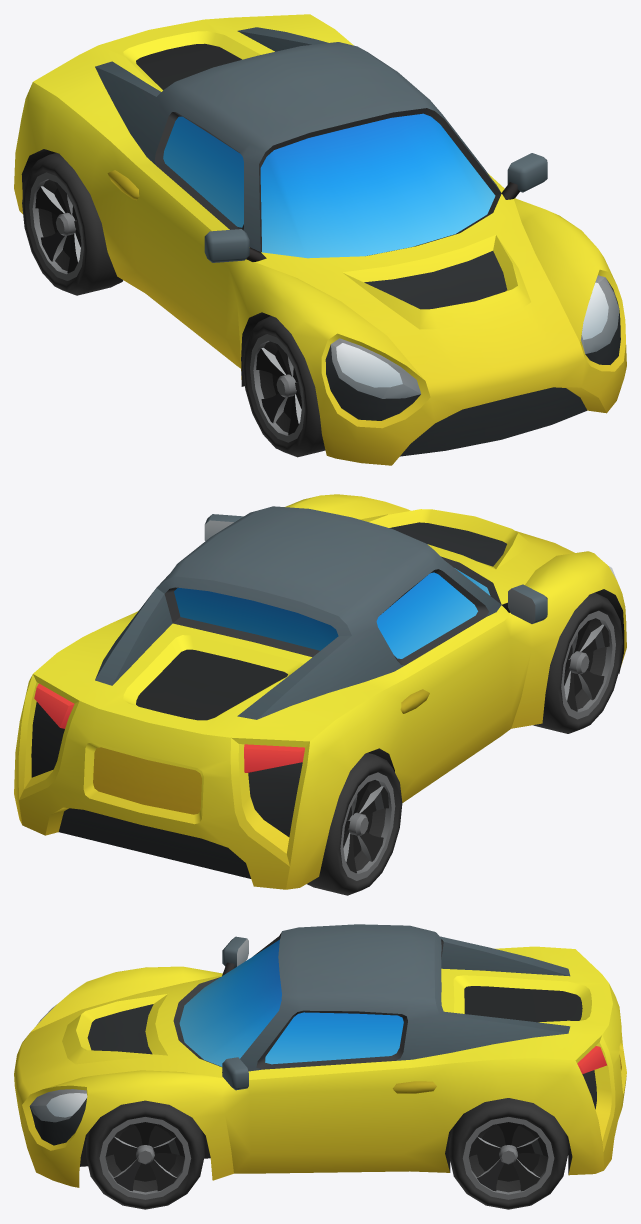
File: Car_16.glb
3 renders of one model, top to bottom at view 1: azimuth 30°, elevation 25°; view 2: azimuth 150°, elevation 25°; view 3: azimuth 270°, elevation 25°, orthographic. The views are drawn at different scales.
Visible parts, largest first — view 1: Car_16, Car_16_Wheel_Rear_Right, Car_16_Wheel_Front_Right; view 2: Car_16, Car_16_Wheel_Rear_Right, Car_16_Wheel_Front_Right; view 3: Car_16, Car_16_Wheel_Rear_Left, Car_16_Wheel_Front_Left.
Boxes of the visible parts, <box> form: Car_16: <box>14,14,626,465</box>; Car_16_Wheel_Rear_Right: <box>22,153,123,295</box>; Car_16_Wheel_Front_Right: <box>243,316,325,457</box>; Car_16: <box>14,494,626,889</box>; Car_16_Wheel_Rear_Right: <box>307,753,402,895</box>; Car_16_Wheel_Front_Right: <box>533,592,622,733</box>; Car_16: <box>14,924,626,1187</box>; Car_16_Wheel_Rear_Left: <box>449,1098,567,1209</box>; Car_16_Wheel_Front_Left: <box>86,1100,204,1209</box>.
Size of the model in its own units: 2.18 by 1.48 by 4.13.
7 materials, 7 textured.
